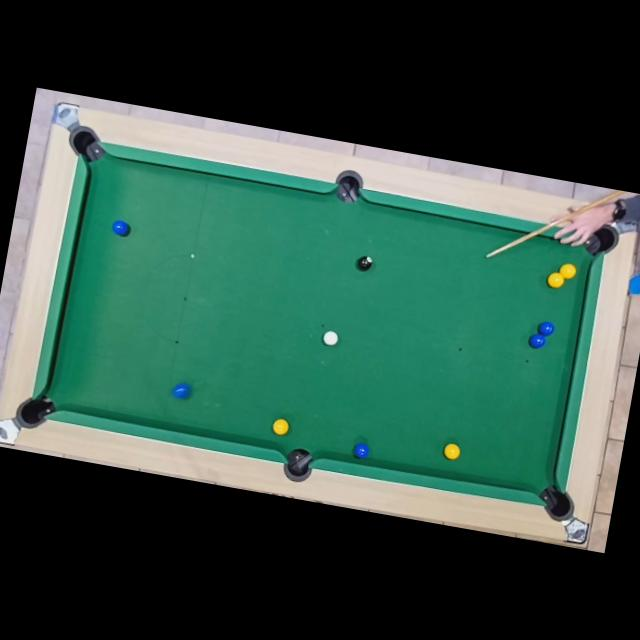Ball: (442, 442, 462, 462), (350, 442, 370, 461), (270, 417, 290, 436), (111, 220, 131, 238), (536, 320, 556, 338), (170, 382, 190, 400), (546, 272, 565, 290), (528, 332, 546, 350), (559, 264, 577, 282), (354, 254, 372, 272), (322, 329, 338, 346)
